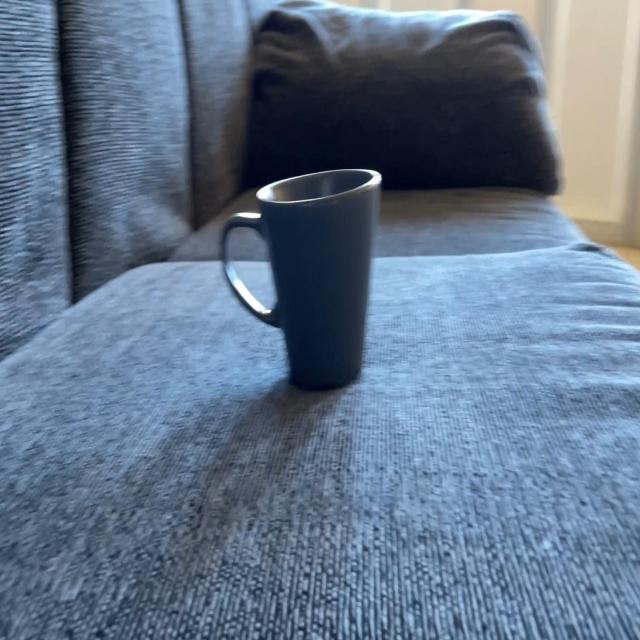cup: (221, 164, 381, 392)
